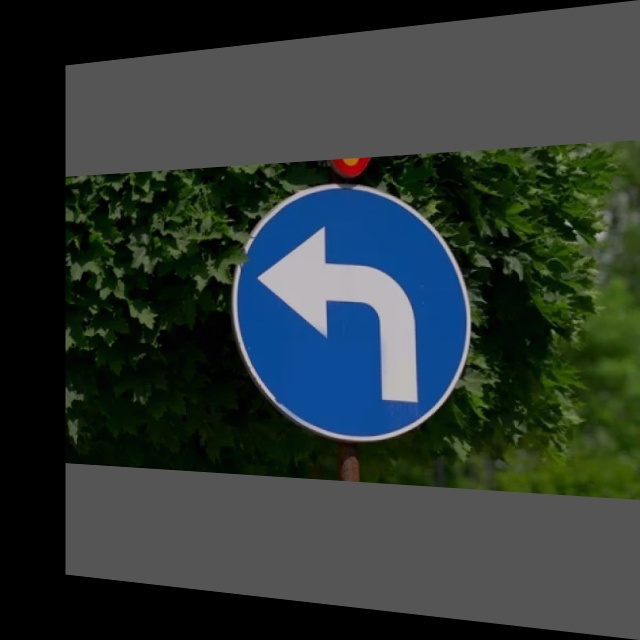Compulsory_Turn_Left_Ahead: (231, 177, 469, 442)
